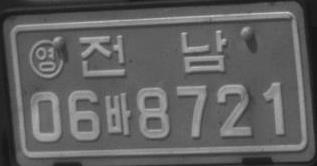0: (29, 89, 62, 142)
1: (259, 81, 291, 135)
2: (215, 83, 252, 137)
6: (67, 89, 101, 142)
7: (175, 84, 207, 137)
8: (136, 86, 170, 139)
바: (103, 92, 131, 135)
영: (28, 38, 64, 79)
전남_D: (79, 28, 227, 78)
